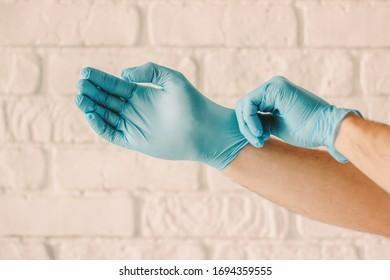gloves: (74, 60, 251, 172), (234, 75, 364, 164)
